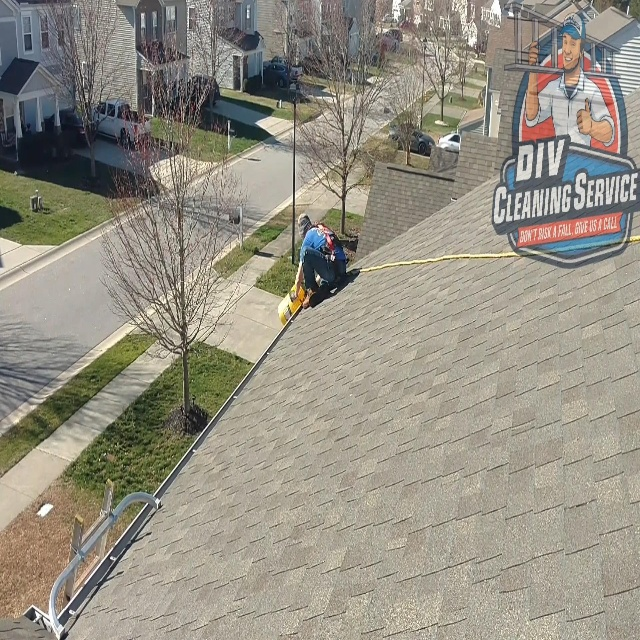Arnes_seguridad: (306, 219, 349, 287)
